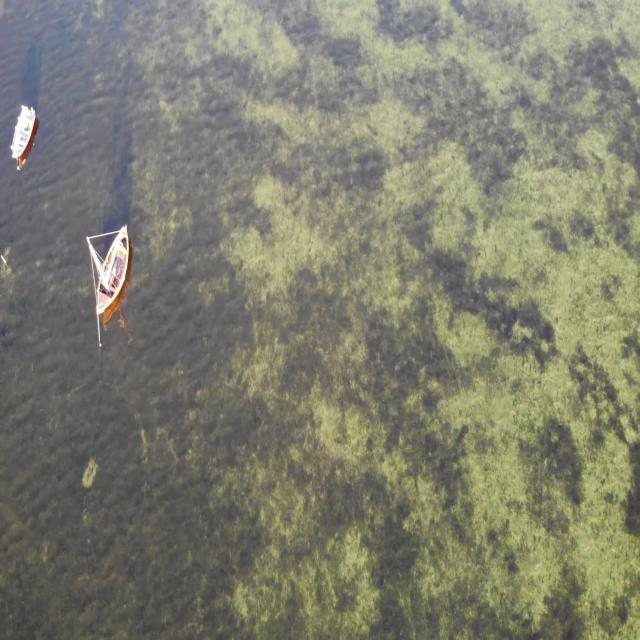boat: (7, 102, 38, 168)
sailboat: (84, 219, 132, 314)
